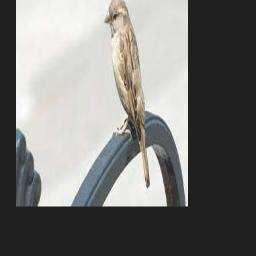Sparrow: (105, 0, 151, 188)
